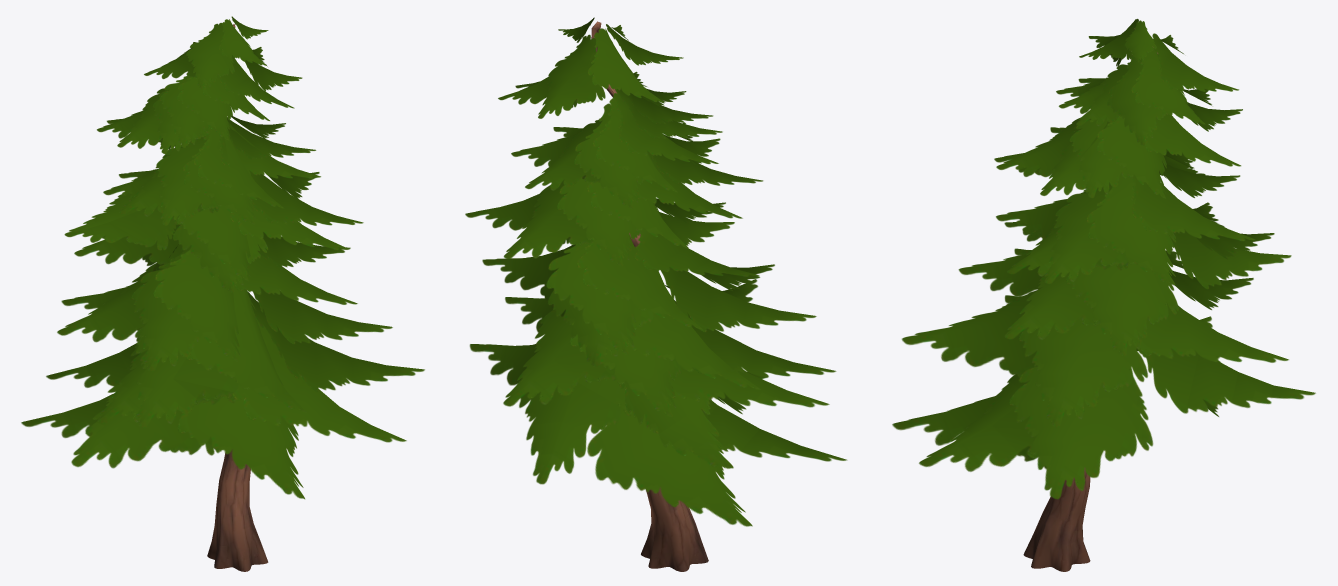
Rendered from pine-wide.glb.
3 renders of one model, left to right at view 1: azimuth 30°, elevation 25°; view 2: azimuth 150°, elevation 25°; view 3: azimuth 270°, elevation 25°, orthographic. The views are drawn at different scales.
Visible parts, largest first — view 1: Pine_5; view 2: Pine_5; view 3: Pine_5.
Boxes of the visible parts, <box> form: Pine_5: <box>21,16,424,571</box>; Pine_5: <box>465,17,847,571</box>; Pine_5: <box>892,18,1315,571</box>.
Bounding box in the file's own units: 6.42 × 8.72 × 6.22.
Materials: 2 (2 with a texture image).
